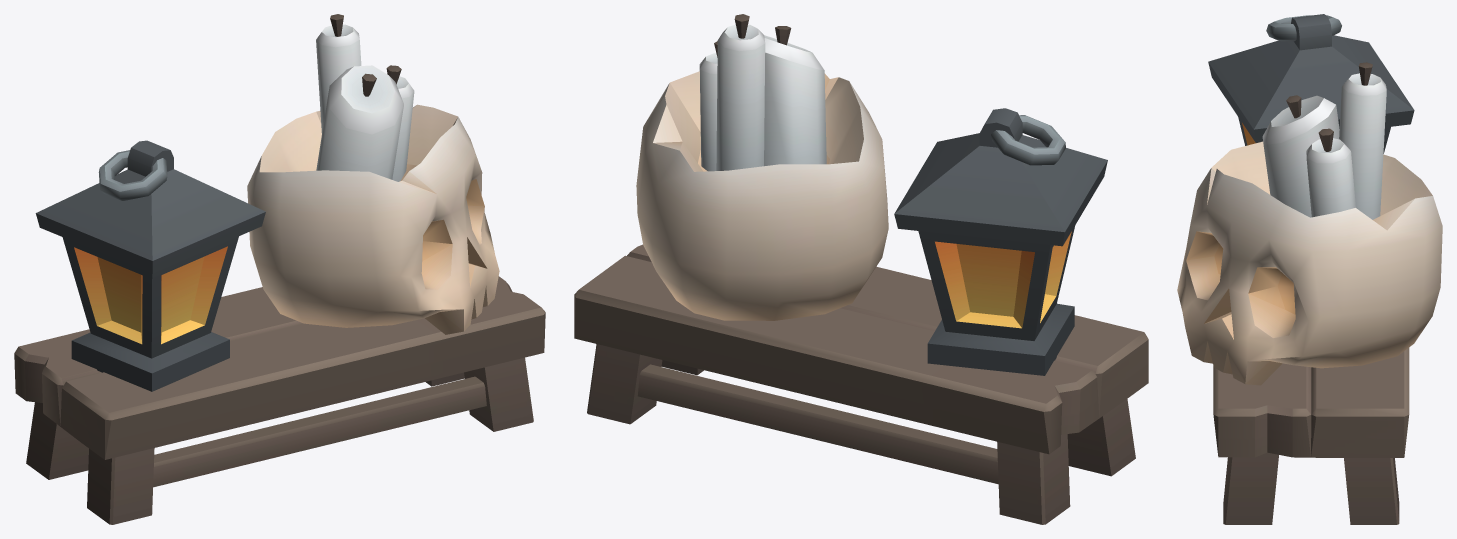
File: kaykit-halloween-bits-bench-decorated.glb
The picture shows the model from 3 angles, left to right: view 1: azimuth 30°, elevation 25°; view 2: azimuth 150°, elevation 25°; view 3: azimuth 270°, elevation 25°; orthographic projection. The views are drawn at different scales.
Visible parts, largest first — view 1: bench_decorated; view 2: bench_decorated; view 3: bench_decorated.
Part boxes in pixels (box(x1,y1,x2,y2)): bench_decorated: box(14, 14, 545, 524); bench_decorated: box(574, 14, 1148, 524); bench_decorated: box(1177, 14, 1442, 524).
Size of the model in its own units: 2 by 1.68 by 1.02.
Materials: 1 (1 with a texture image).
